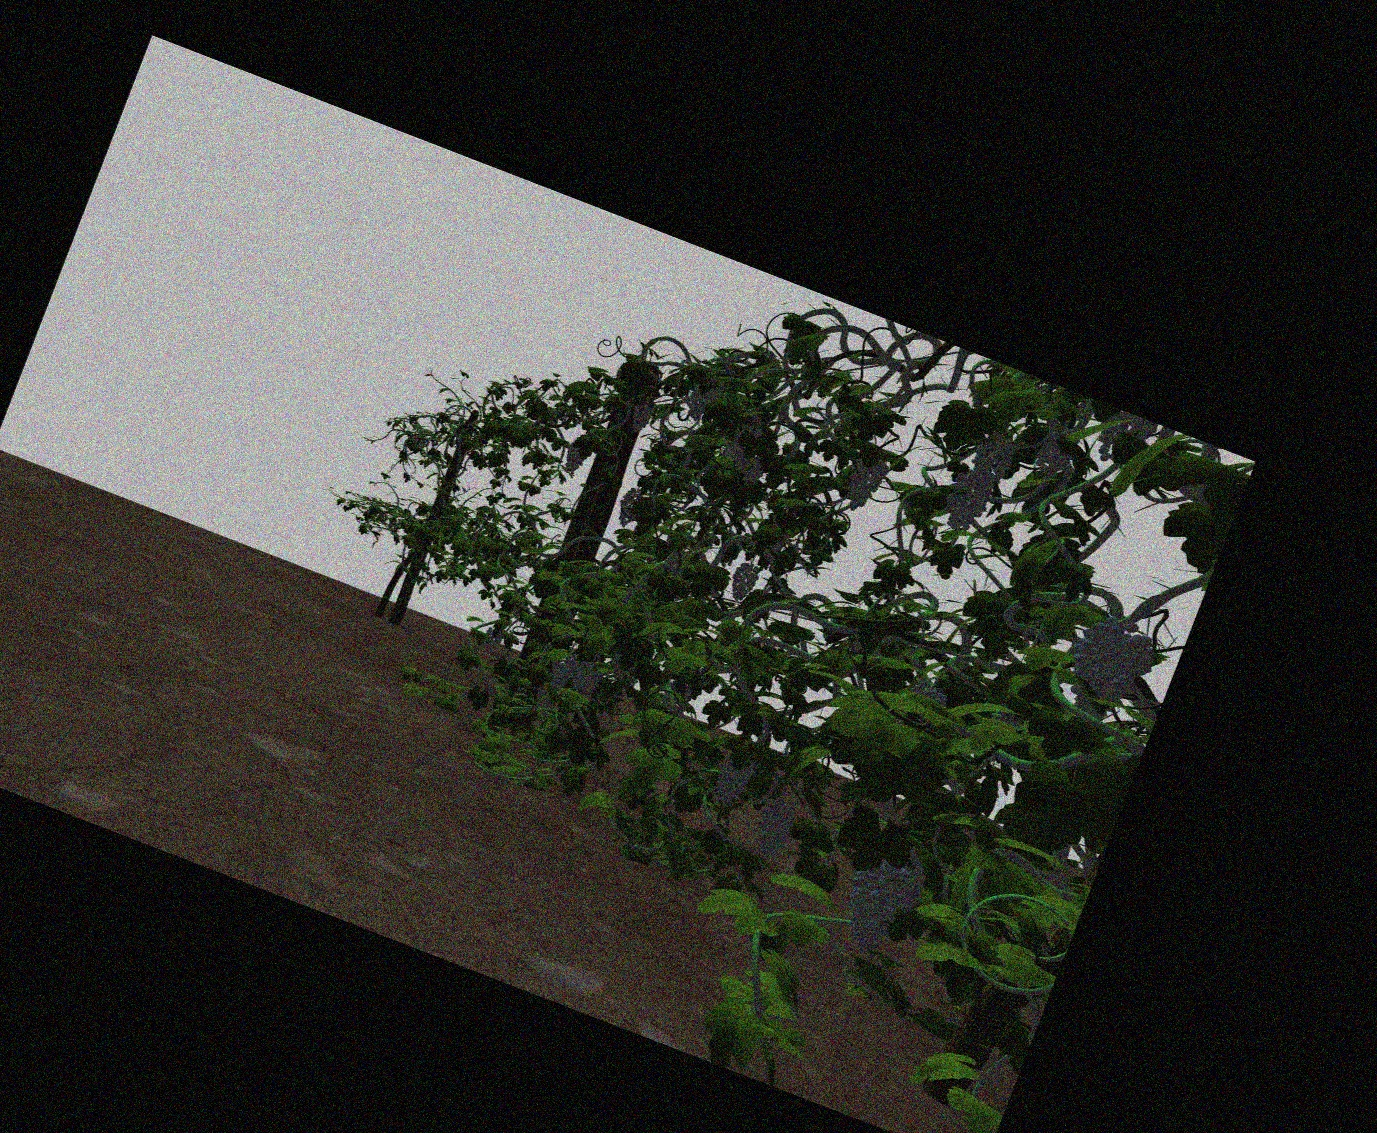grape: (1073, 620, 1149, 704), (844, 862, 908, 951), (946, 470, 986, 530), (753, 800, 790, 856), (846, 452, 883, 509), (714, 757, 749, 806), (976, 434, 1012, 476), (729, 424, 757, 466), (688, 378, 716, 420), (549, 651, 575, 691), (731, 561, 756, 601), (616, 487, 639, 526), (571, 665, 597, 699), (564, 442, 584, 473), (632, 401, 648, 432), (745, 457, 762, 485), (481, 627, 501, 649)
